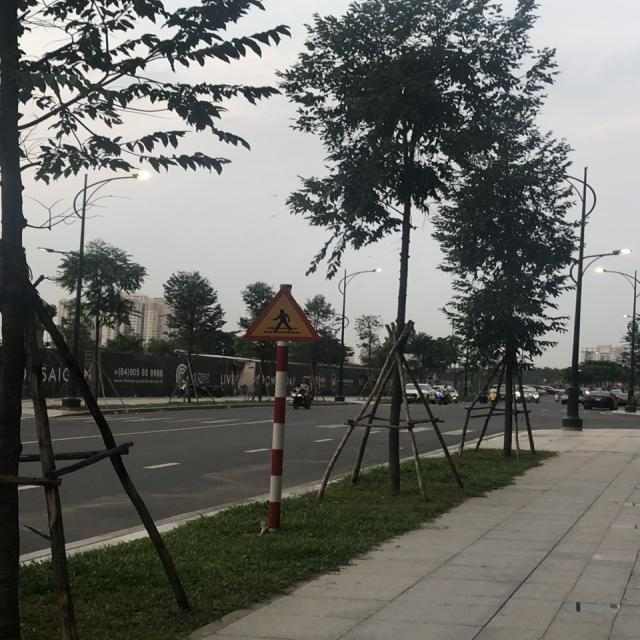Bien bao duong nguoi di bo cat ngang: (236, 283, 322, 345)
